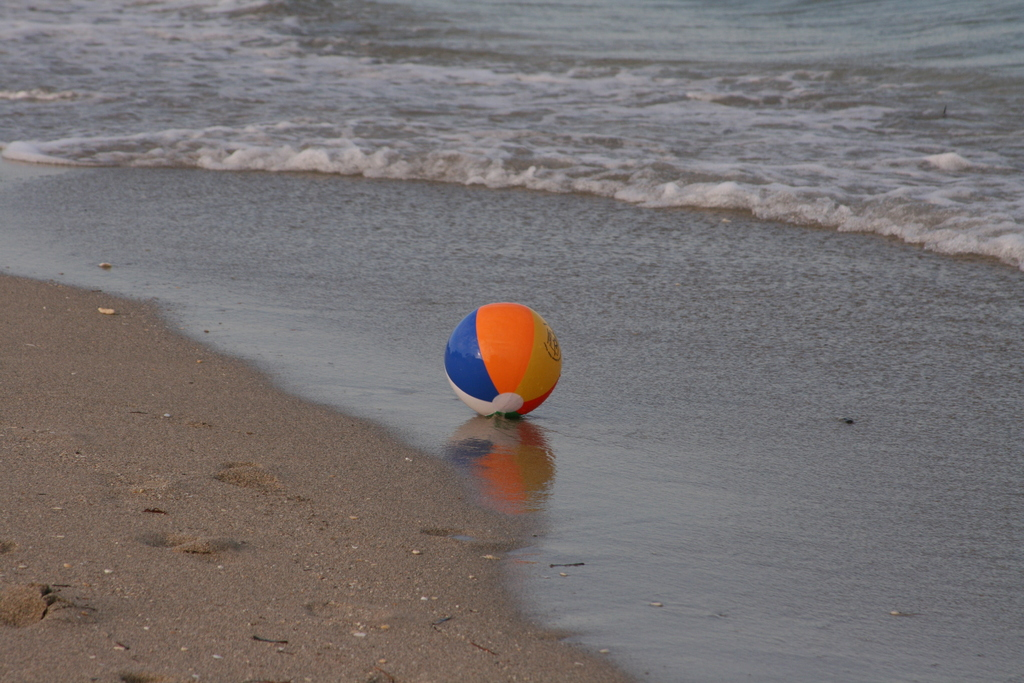Ball: (444, 302, 561, 414)
